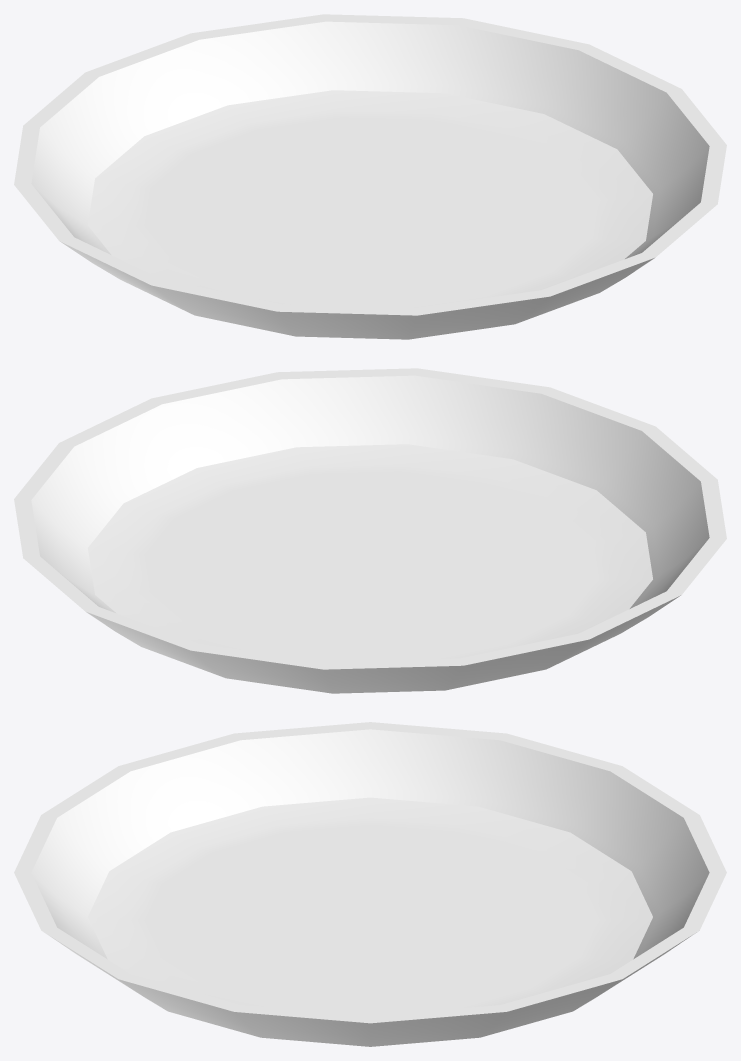
Rendered from HP_plate.glb.
3 renders of one model, top to bottom at view 1: azimuth 30°, elevation 25°; view 2: azimuth 150°, elevation 25°; view 3: azimuth 270°, elevation 25°, orthographic.
Parts seen in each view (by area): view 1: HP_plate.001; view 2: HP_plate.001; view 3: HP_plate.001.
Part boxes in pixels (box(x1,y1,x2,y2)): HP_plate.001: box(14, 14, 726, 339); HP_plate.001: box(14, 368, 726, 693); HP_plate.001: box(14, 722, 726, 1046).
Bounding box in the file's own units: 0.1611 × 0.0133 × 0.1611.
1 material, 1 textured.
